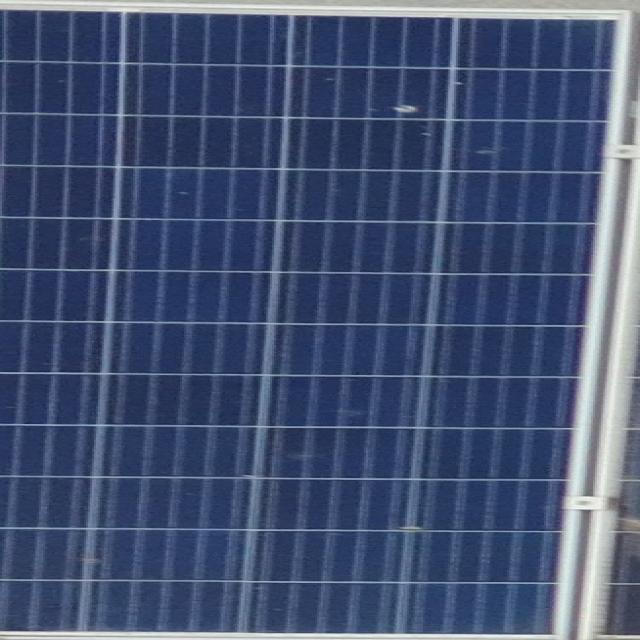bird-droppings: (381, 98, 434, 118)
